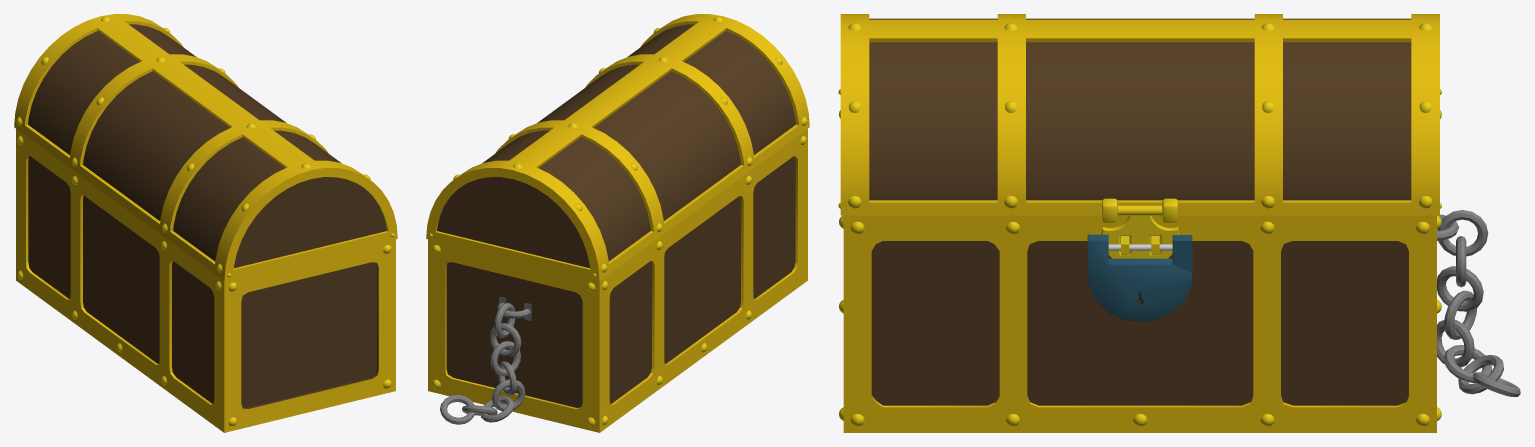
Rendered from treasurebox02_1_m.fbx.
3 renders of one model, left to right at view 1: azimuth 30°, elevation 25°; view 2: azimuth 150°, elevation 25°; view 3: azimuth 270°, elevation 25°, orthographic. The views are drawn at different scales.
Visible parts, largest first — view 1: UnderBox, Flap, Pin_Flap, Pin_Under; view 2: Flap, UnderBox, Rings_R, Pin_Flap, Pin_Under; view 3: UnderBox, Flap, Rings_R, Lock, Latch, Pin_Under, Pin_Flap, Bearing, Lock_Move.
Boxes of the visible parts, x1,y1,x2,y2 form: UnderBox: (16, 129, 395, 432); Flap: (14, 14, 397, 280); Pin_Flap: (16, 16, 394, 277); Pin_Under: (17, 135, 391, 426); Flap: (426, 14, 809, 280); UnderBox: (428, 129, 807, 432); Rings_R: (440, 297, 531, 424); Pin_Flap: (429, 16, 807, 277); Pin_Under: (432, 135, 806, 426); UnderBox: (843, 215, 1436, 432); Flap: (840, 14, 1439, 215); Rings_R: (1437, 210, 1520, 396); Lock: (1087, 234, 1192, 321); Latch: (1101, 205, 1178, 258); Pin_Under: (839, 110, 1441, 426); Pin_Flap: (838, 23, 1441, 208); Bearing: (1102, 198, 1178, 222); Lock_Move: (1172, 235, 1192, 273).
Size of the model in its own units: 220 by 275 by 483.
